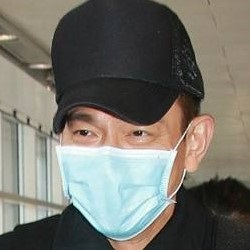mask: (46, 133, 180, 238)
